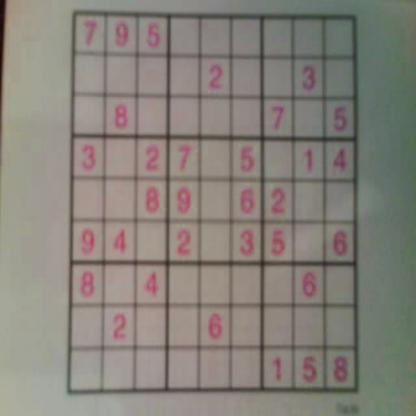sudoku: (65, 7, 363, 399)
